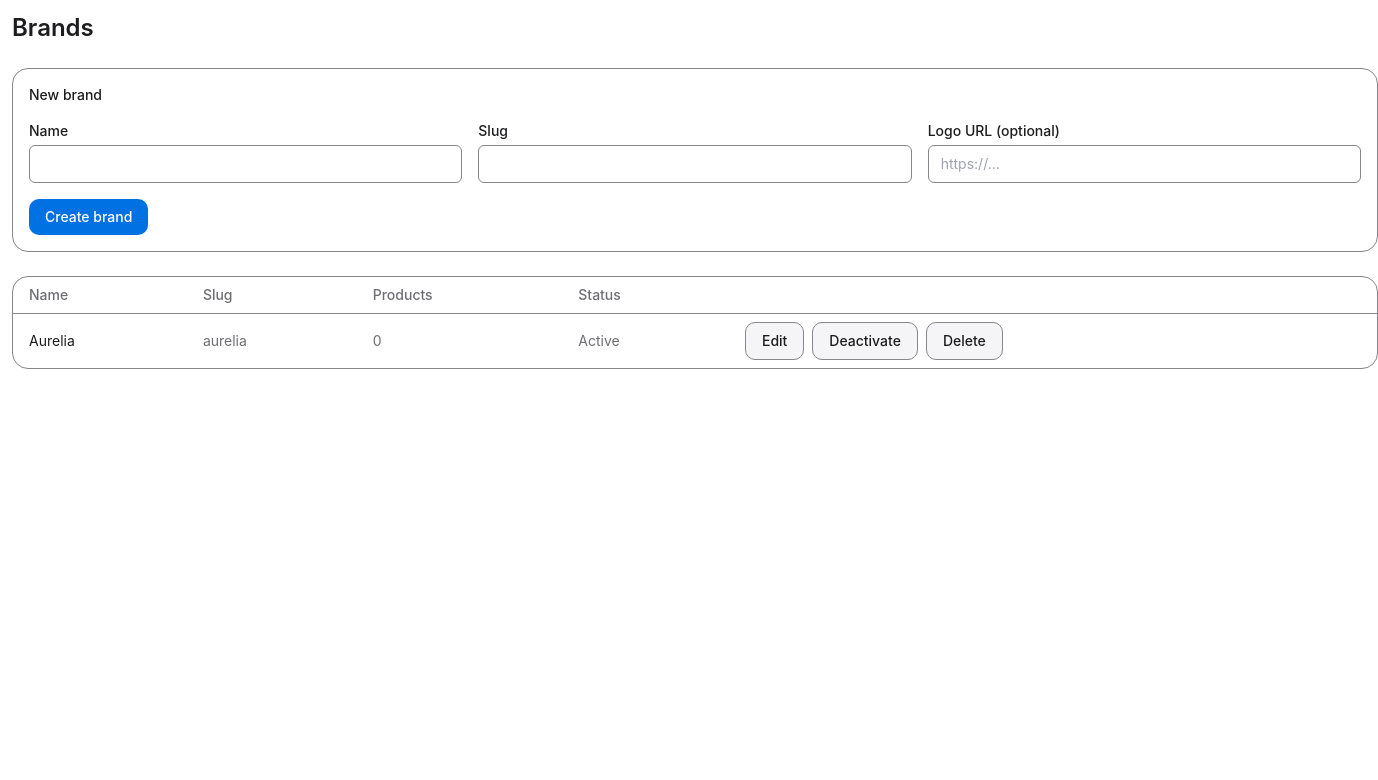
AdminBrandsPage › shows an error toast when delete is blocked by product references
Expected: the text "Aurelia" is shown, top-left (13, 314), bottom-right (187, 368)
Click the button "Delete".
click(964, 341)  # box top-left (926, 322), bottom-right (1003, 360)
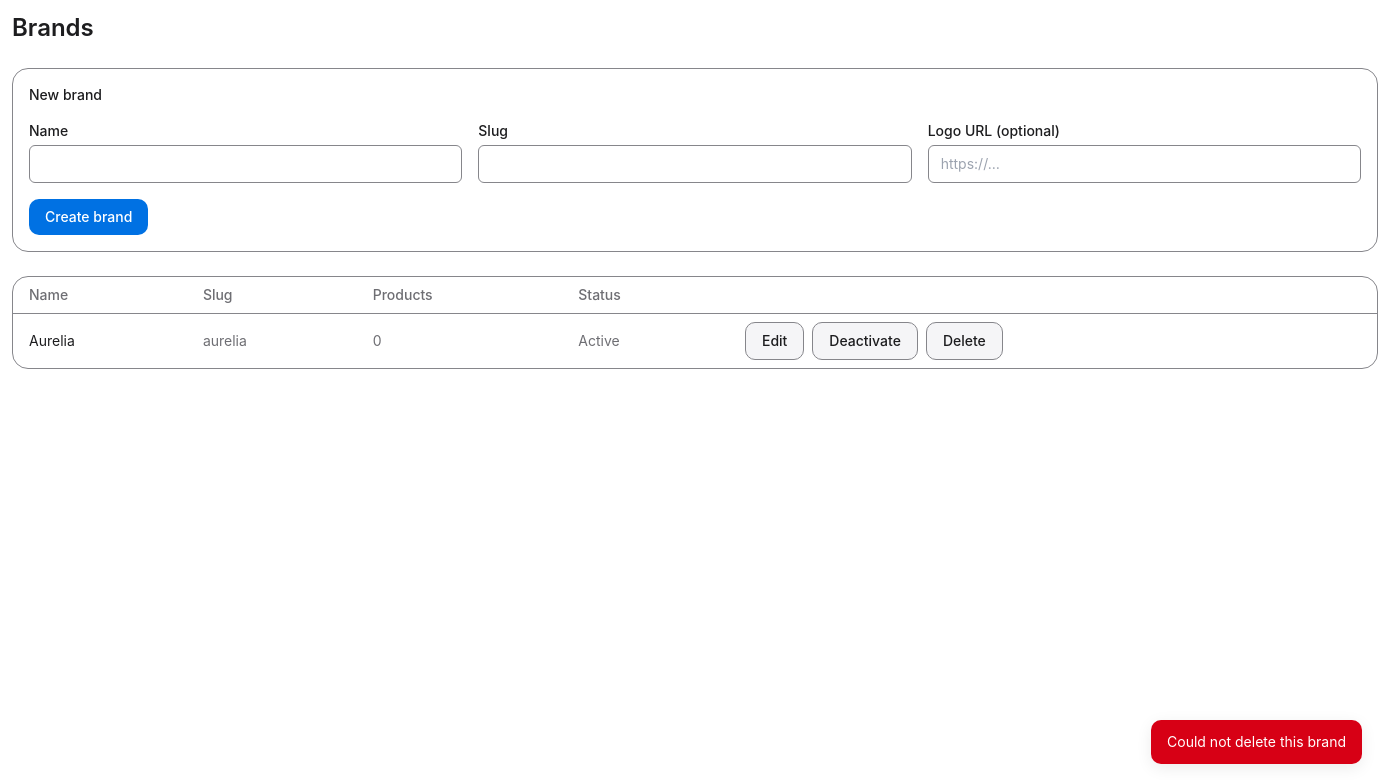
Expected: the text "Could not delete this brand" is shown, top-left (1151, 720), bottom-right (1362, 764)
